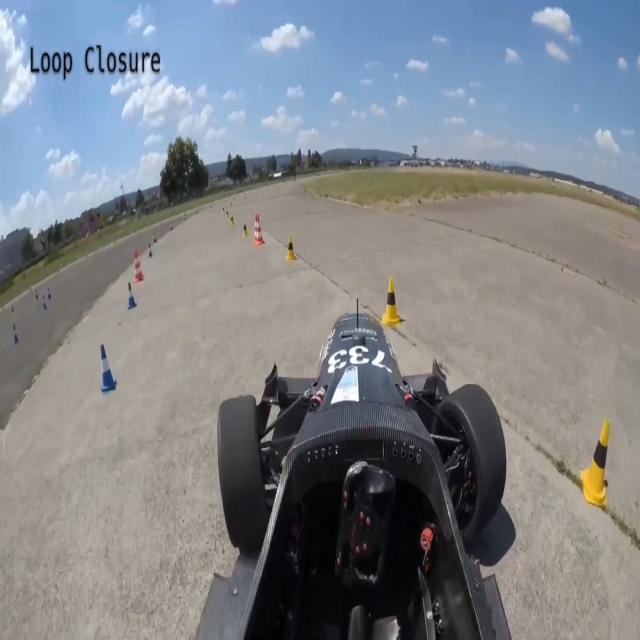blue_cone: (101, 343, 116, 395), (128, 283, 138, 311)
large_orange_cone: (134, 250, 143, 281), (256, 213, 264, 246)
yellow_cone: (581, 420, 609, 506), (381, 277, 402, 326), (287, 234, 297, 263)
